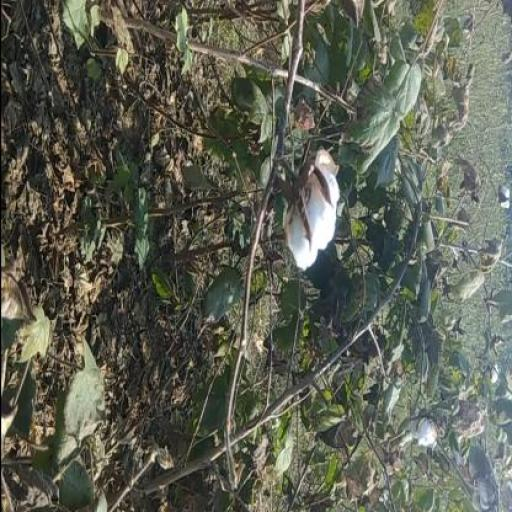cotton_ready: (260, 134, 346, 288)
